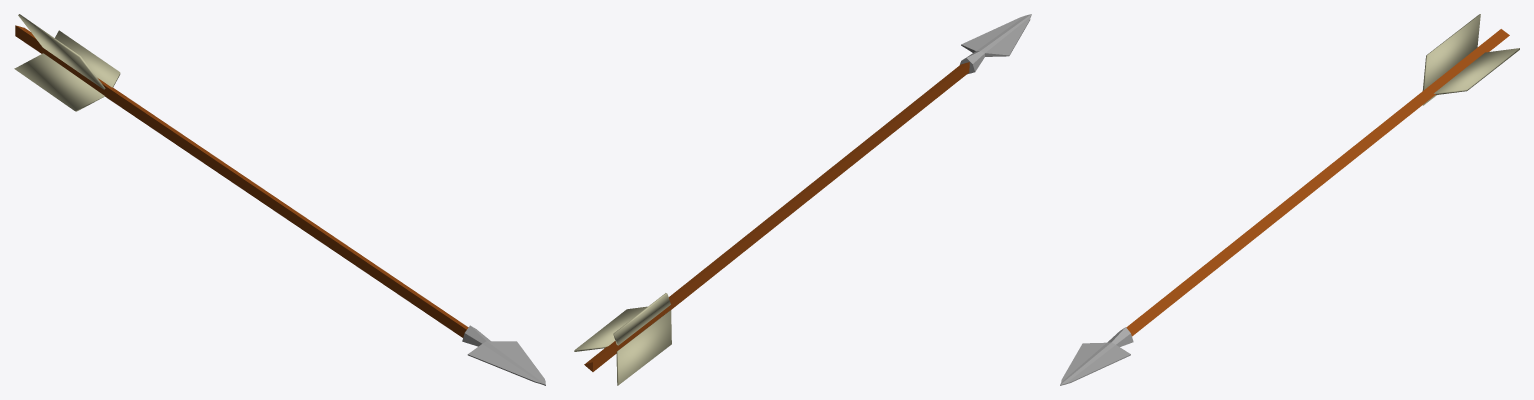
File: Arrow.fbx
3 views of the same model, side by side, from view 1: azimuth 30°, elevation 25°; view 2: azimuth 150°, elevation 25°; view 3: azimuth 330°, elevation 25° (orthographic). The views are drawn at different scales.
Parts seen in each view (by area): view 1: Cylinder.287; view 2: Cylinder.287; view 3: Cylinder.287.
Boxes of the visible parts, bbox=[...] form: Cylinder.287: bbox=[14, 14, 545, 385]; Cylinder.287: bbox=[574, 14, 1031, 385]; Cylinder.287: bbox=[1060, 14, 1519, 385].
Size of the model in its own units: 25.33 by 18.83 by 312.
